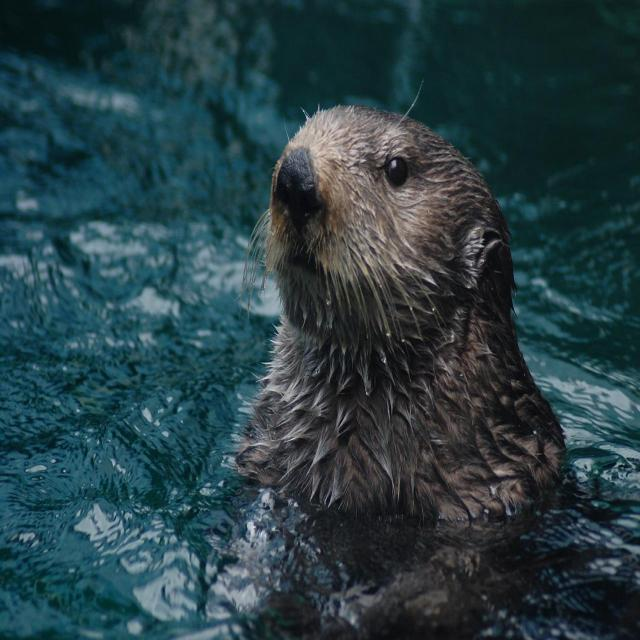otter: (238, 103, 571, 529)
